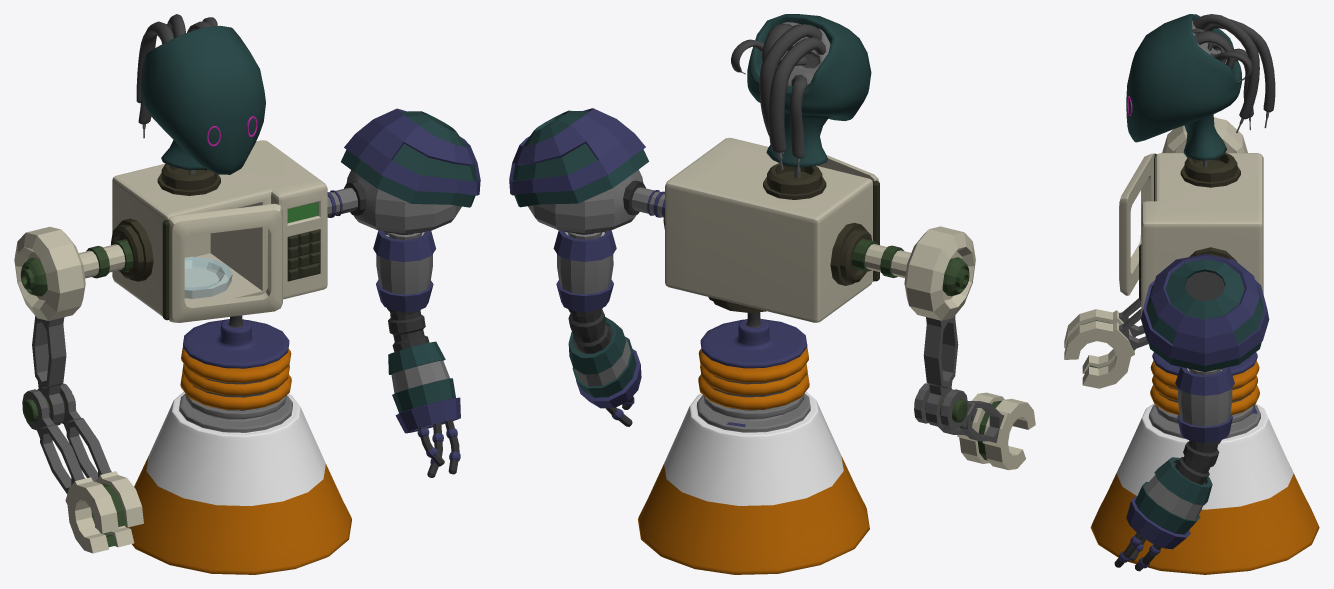
File: npcRobo4.fbx
The picture shows the model from 3 angles, left to right: view 1: azimuth 30°, elevation 25°; view 2: azimuth 150°, elevation 25°; view 3: azimuth 270°, elevation 25°; orthographic projection. The views are drawn at different scales.
Parts seen in each view (by area): view 1: npcRobo4; view 2: npcRobo4; view 3: npcRobo4.
Part boxes in pixels (x1,y1,x2,y2): npcRobo4: (14,14,480,574); npcRobo4: (509,14,1035,574); npcRobo4: (1064,14,1319,574).
Size of the model in its own units: 61.15 by 67.79 by 31.82.
